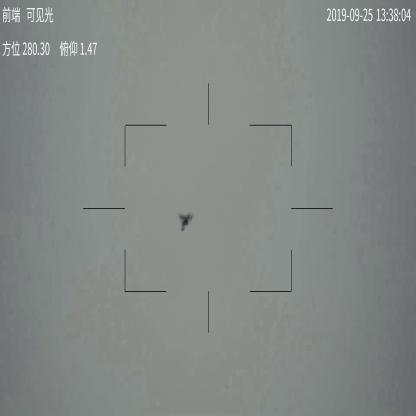uav: (177, 211, 196, 232)
